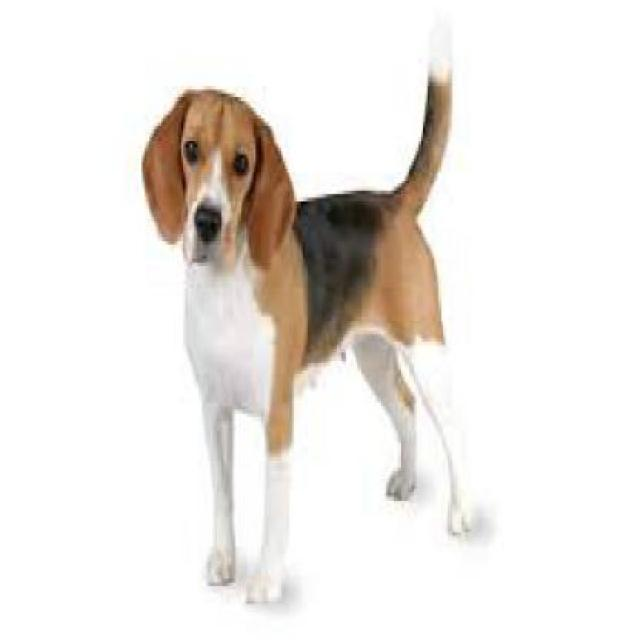Dog: (138, 8, 478, 615)
